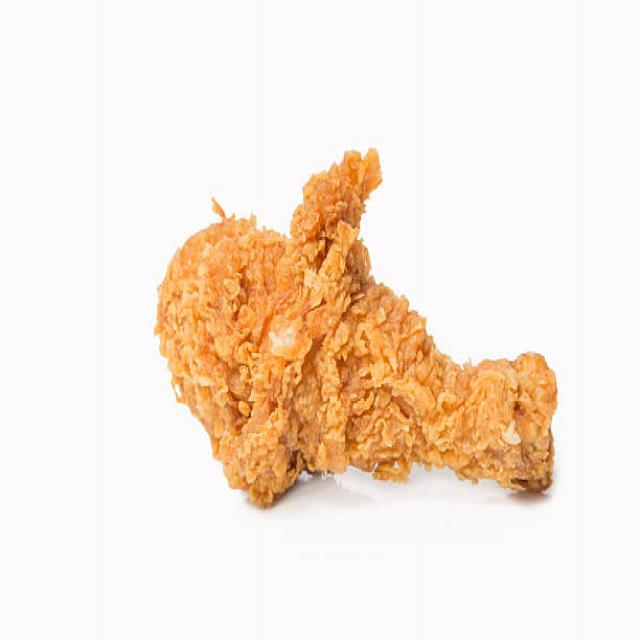Chicken Thigh: (152, 202, 562, 530)
